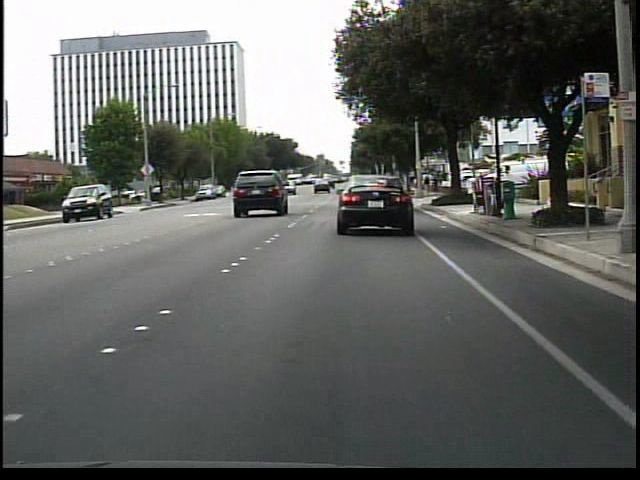person: (423, 173, 433, 196), (432, 174, 441, 194)
